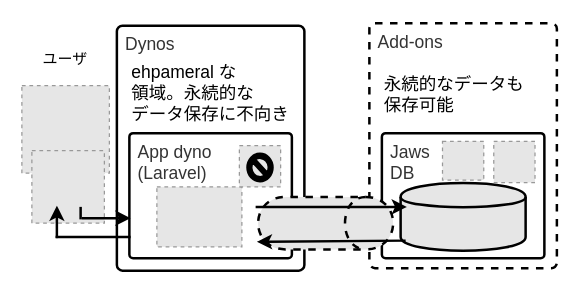
Image size: 580x293. Some labels were removed from this diagram. Grey dashed boxes stand in for pictures. Here are the shapes that lost their labels. From the top down, the centre of each, then its label:
point (325, 222): attached
point (462, 216): MySQL
